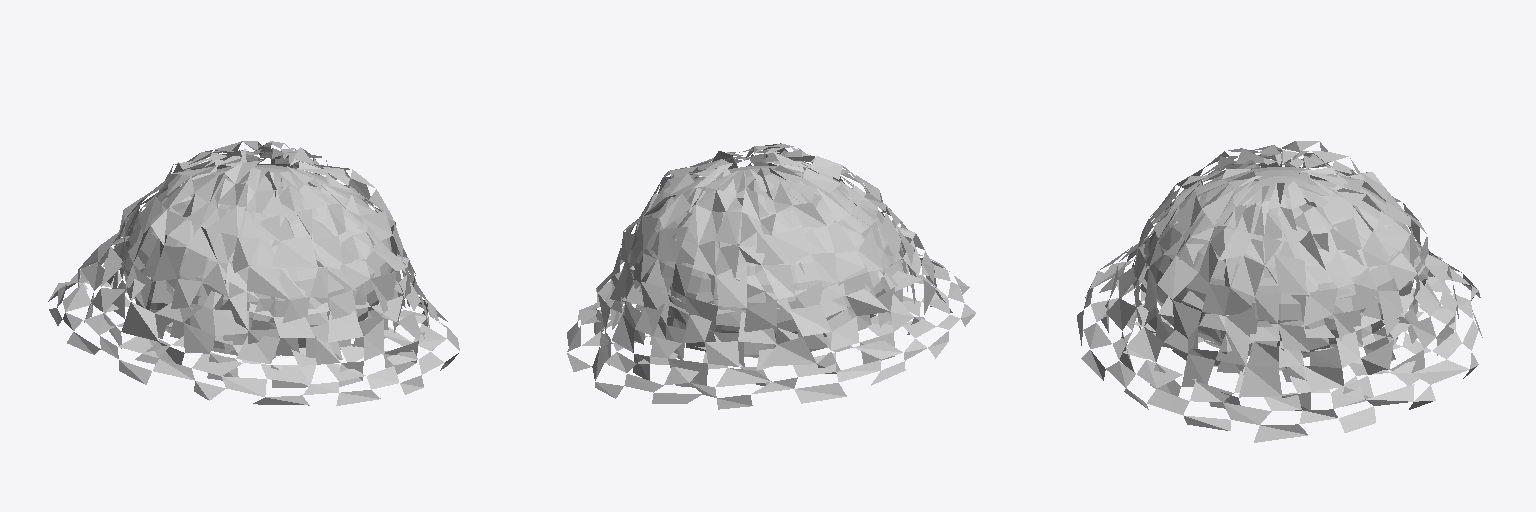
The model's file is bigBush.obj.
3 views of the same model, side by side, from view 1: azimuth 30°, elevation 25°; view 2: azimuth 150°, elevation 25°; view 3: azimuth 270°, elevation 25° (orthographic).
Parts seen in each view (by area): view 1: Sphere.001, Sphere.002_Sphere.003, Sphere.003_Sphere.004, Sphere.004_Sphere.005, Sphere_Sphere.002; view 2: Sphere.001, Sphere.003_Sphere.004, Sphere.002_Sphere.003, Sphere.004_Sphere.005, Sphere_Sphere.002; view 3: Sphere.001, Sphere.004_Sphere.005, Sphere.003_Sphere.004, Sphere.002_Sphere.003, Sphere_Sphere.002.
Boxes of the visible parts, <box> form: Sphere.001: <box>107,141,415,359</box>; Sphere.002_Sphere.003: <box>112,146,405,355</box>; Sphere.003_Sphere.004: <box>78,231,433,387</box>; Sphere.004_Sphere.005: <box>48,258,459,405</box>; Sphere_Sphere.002: <box>124,165,392,355</box>; Sphere.001: <box>610,143,916,366</box>; Sphere.003_Sphere.004: <box>594,226,952,387</box>; Sphere.002_Sphere.003: <box>622,150,907,354</box>; Sphere.004_Sphere.005: <box>567,254,975,409</box>; Sphere_Sphere.002: <box>629,166,899,357</box>; Sphere.001: <box>1120,141,1440,374</box>; Sphere.004_Sphere.005: <box>1077,244,1482,442</box>; Sphere.003_Sphere.004: <box>1099,219,1458,410</box>; Sphere.002_Sphere.003: <box>1135,154,1426,381</box>; Sphere_Sphere.002: <box>1146,167,1414,357</box>.
Size of the model in its own units: 3.04 by 1.62 by 3.